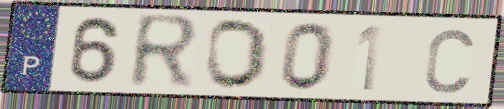0: (277, 19, 337, 93)
1: (355, 24, 383, 93)
6: (68, 14, 123, 86)
C: (422, 25, 477, 95)
O: (203, 17, 271, 92)
R: (126, 12, 204, 92)
